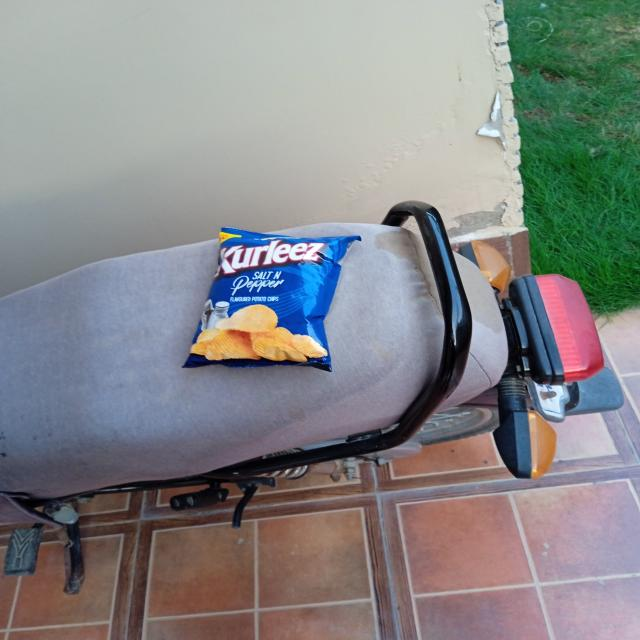Plastic: (185, 234, 358, 374)
